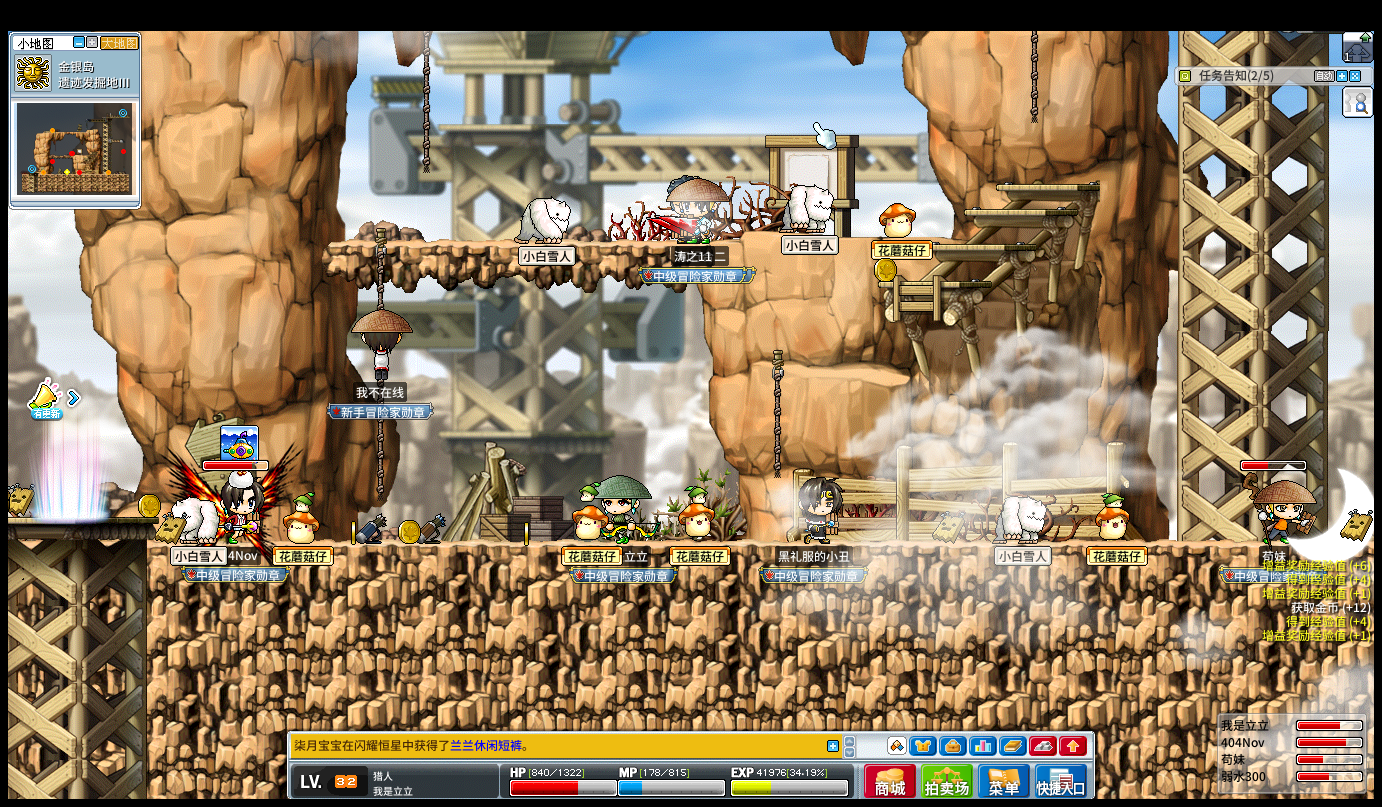floor: (323, 239, 708, 248), (802, 364, 911, 384), (3, 516, 158, 525), (962, 205, 1076, 215), (17, 515, 157, 523), (874, 279, 990, 288), (926, 243, 1032, 251), (961, 207, 1073, 214), (994, 184, 1097, 191)
rope: (770, 349, 782, 482), (373, 224, 388, 310), (371, 225, 385, 310), (376, 421, 388, 509), (371, 421, 383, 507), (422, 30, 429, 163), (1027, 29, 1037, 120)
